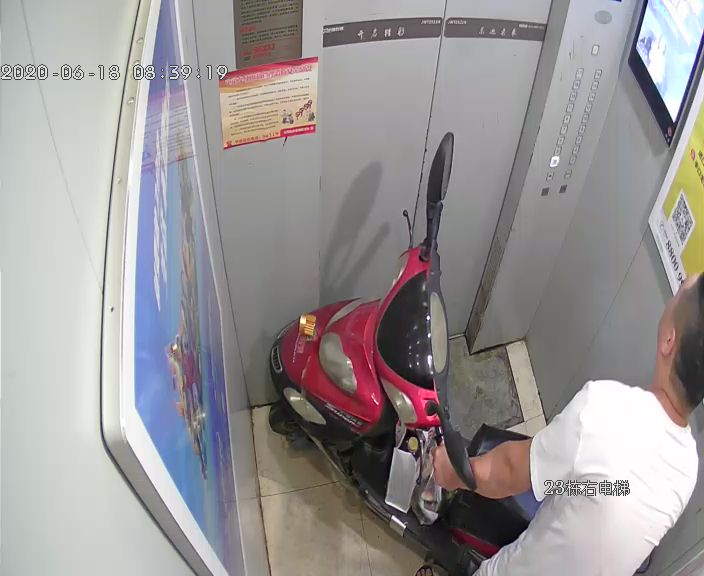Electric-bicycle: (267, 129, 541, 553)
